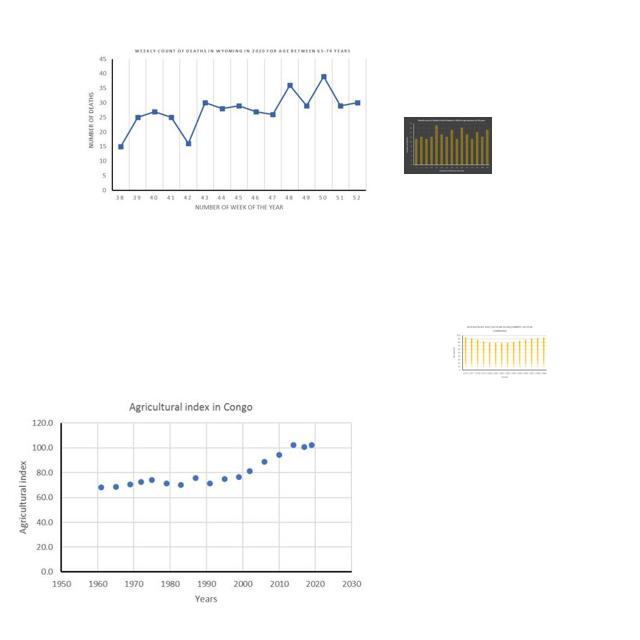Graph: (9, 393, 368, 604), (81, 40, 373, 220), (450, 323, 548, 381), (404, 117, 492, 174)
